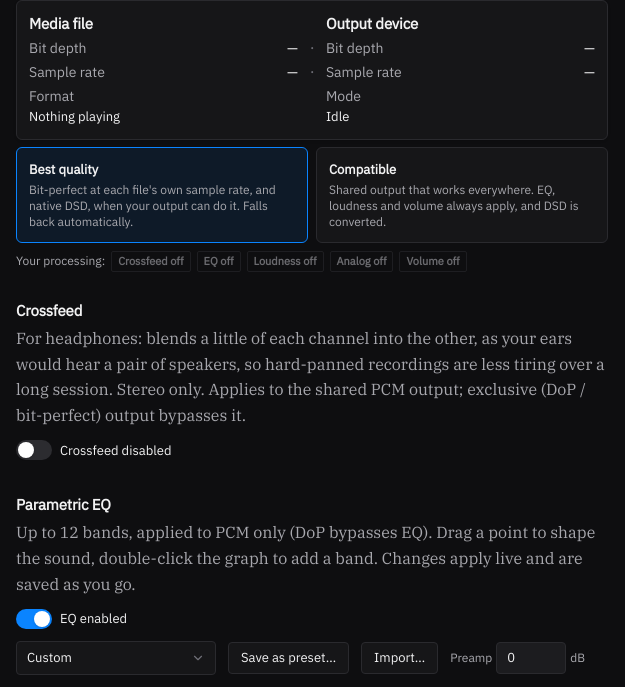
Test: Settings: crossfeed › is off by default with nothing to adjust, and turns on through the core, on Bauer
(page scrolled)
Click the switch next to "Crossfeed disabled": [34, 450] box top-left (16, 440), bottom-right (52, 460)
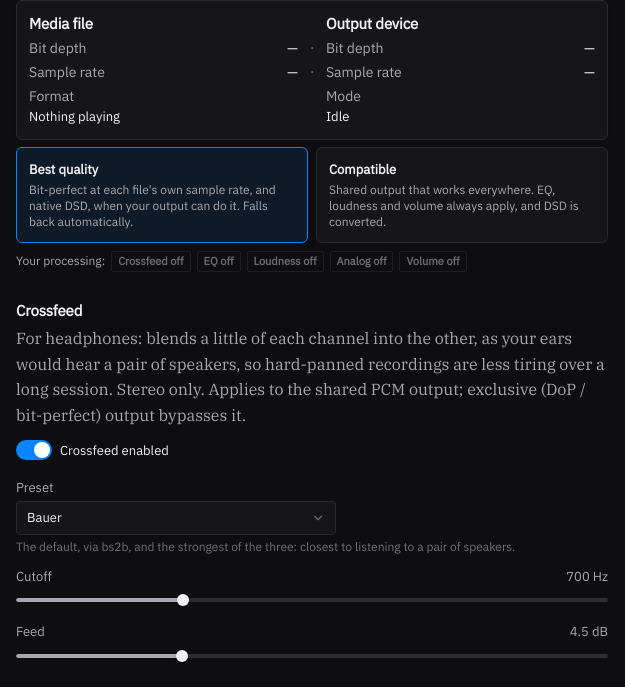
Result: the text with test id "crossfeed-cutoff" reads "700 Hz" at top-left (566, 568), bottom-right (608, 585)
Result: the text with test id "crossfeed-feed" reads "4.5 dB" at top-left (570, 624), bottom-right (608, 640)
